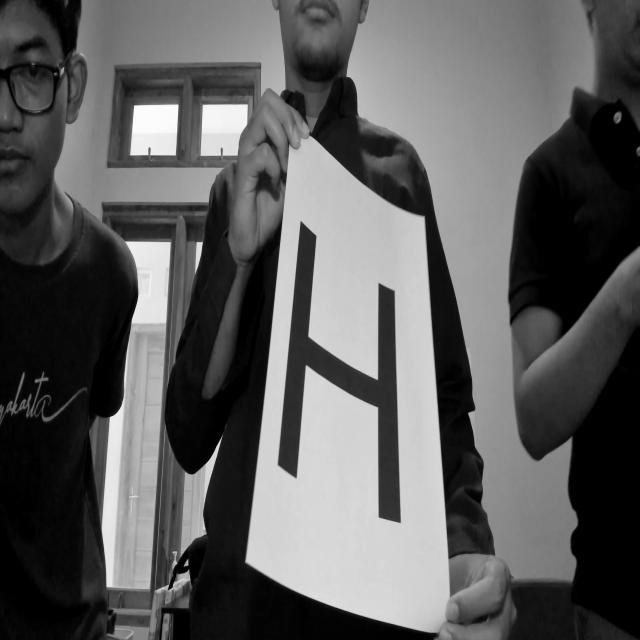h: (263, 204, 419, 546)
